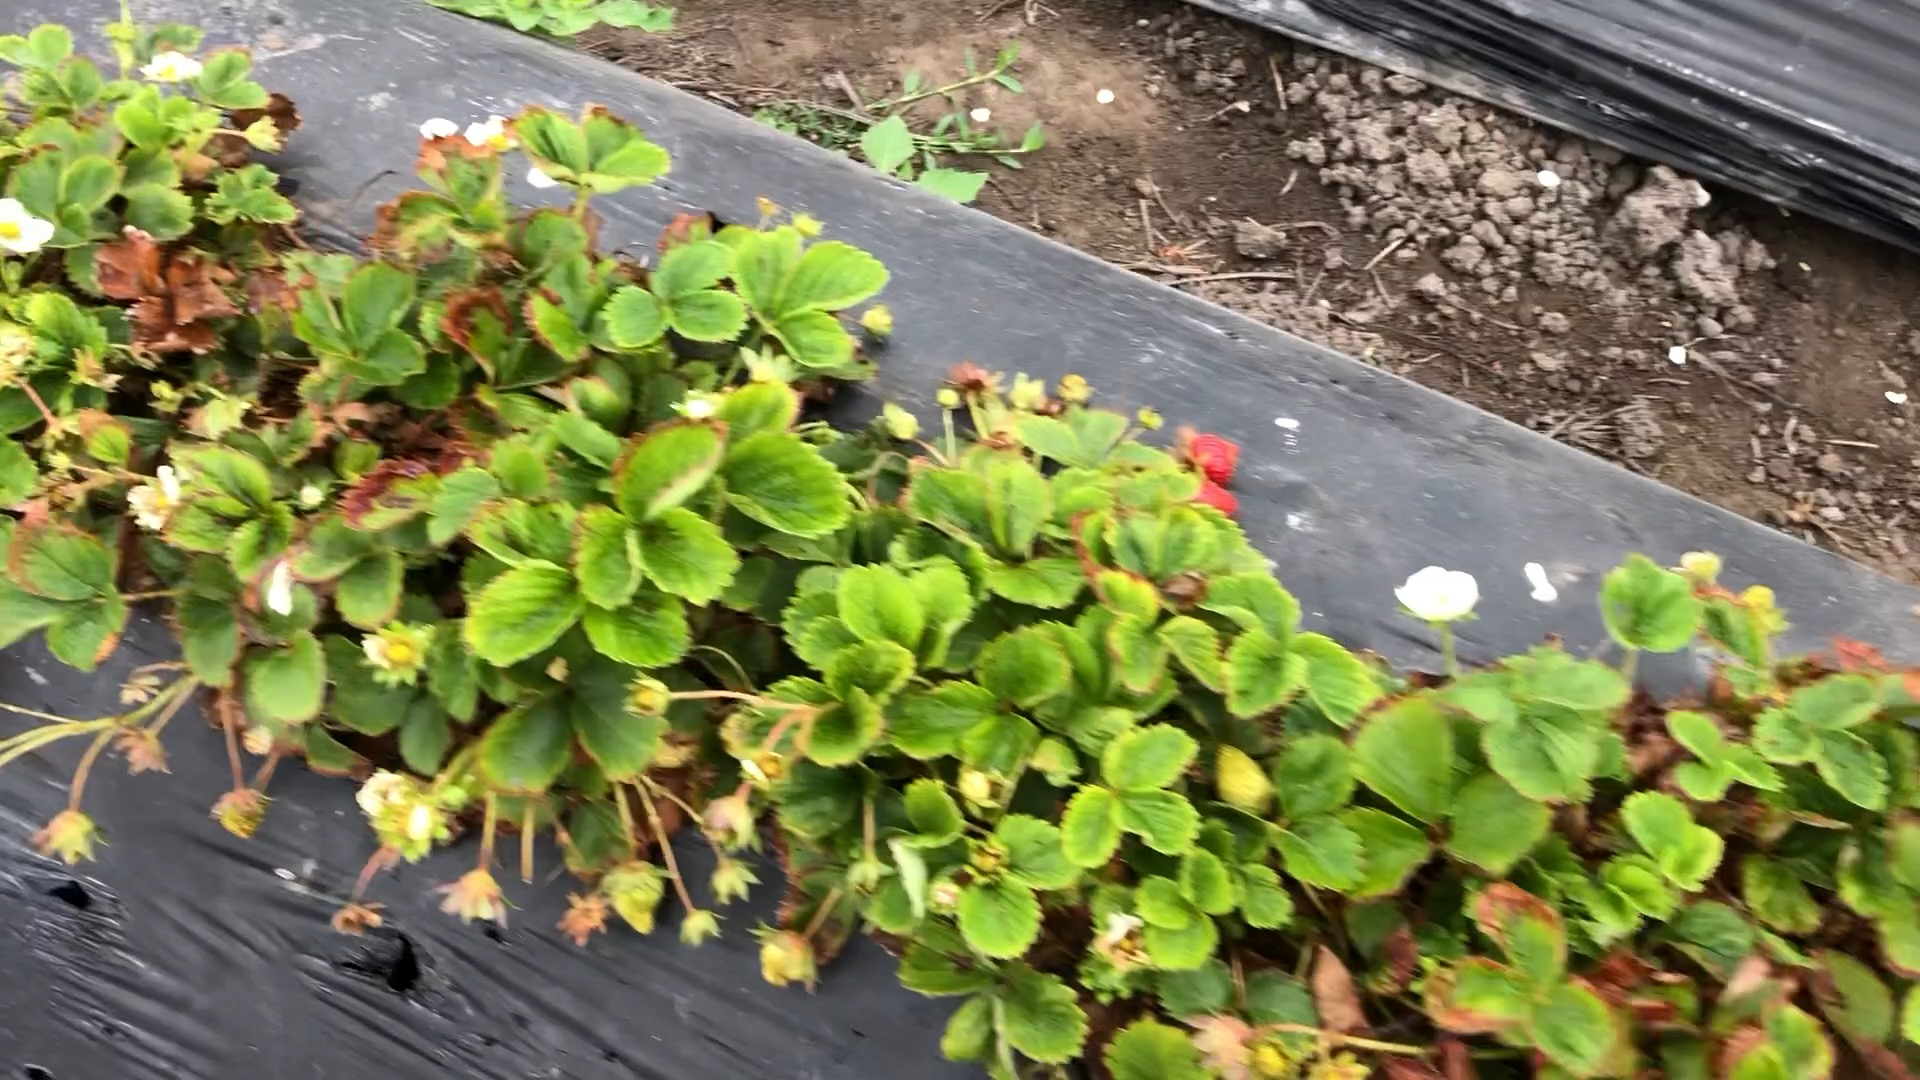ripe_strawberry: (1185, 433, 1244, 489), (1189, 479, 1244, 521)
unripe_strawberry: (1212, 740, 1279, 827), (607, 862, 665, 938), (757, 928, 818, 990)
